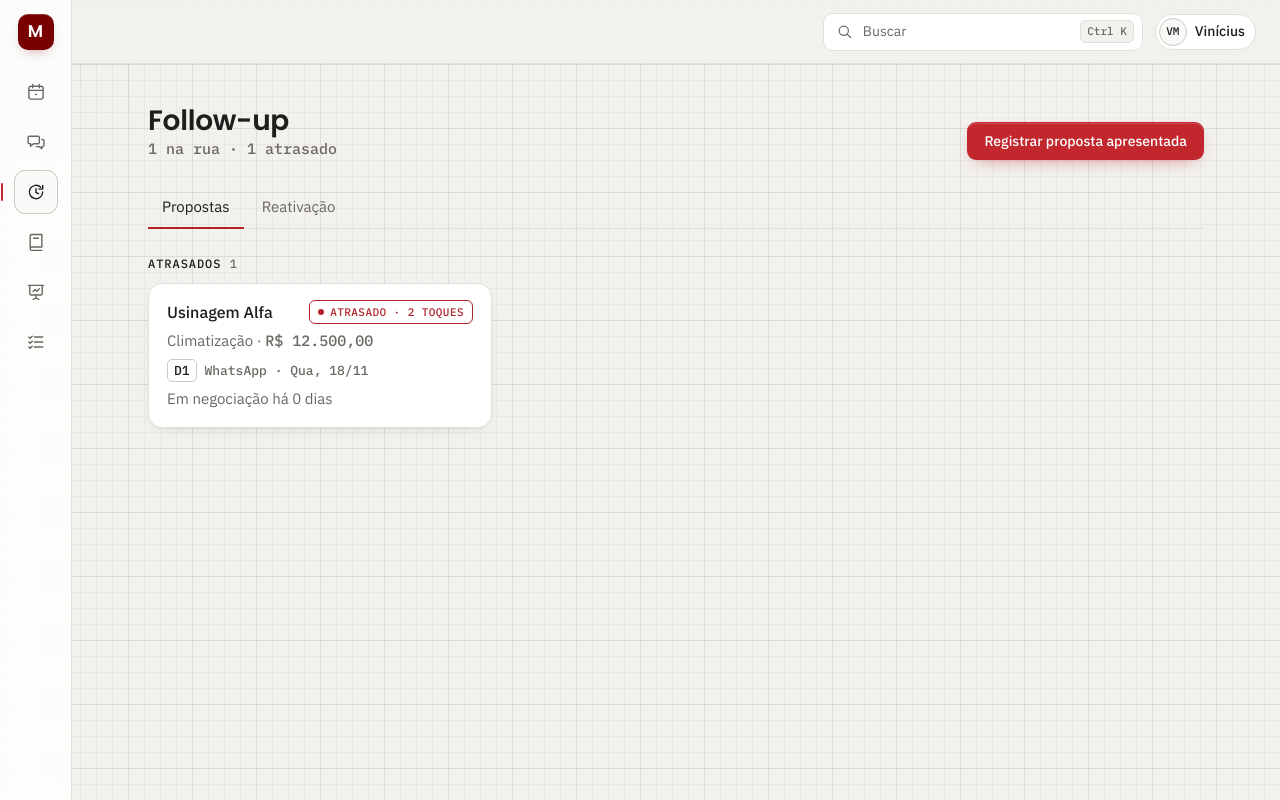
Test: registrar toque manda canal e resultado e tira o atraso
This screenshot has width=1280, height=800.
Click the button "Usinagem Alfa" at coordinates (220, 312), box [148,283,492,428]
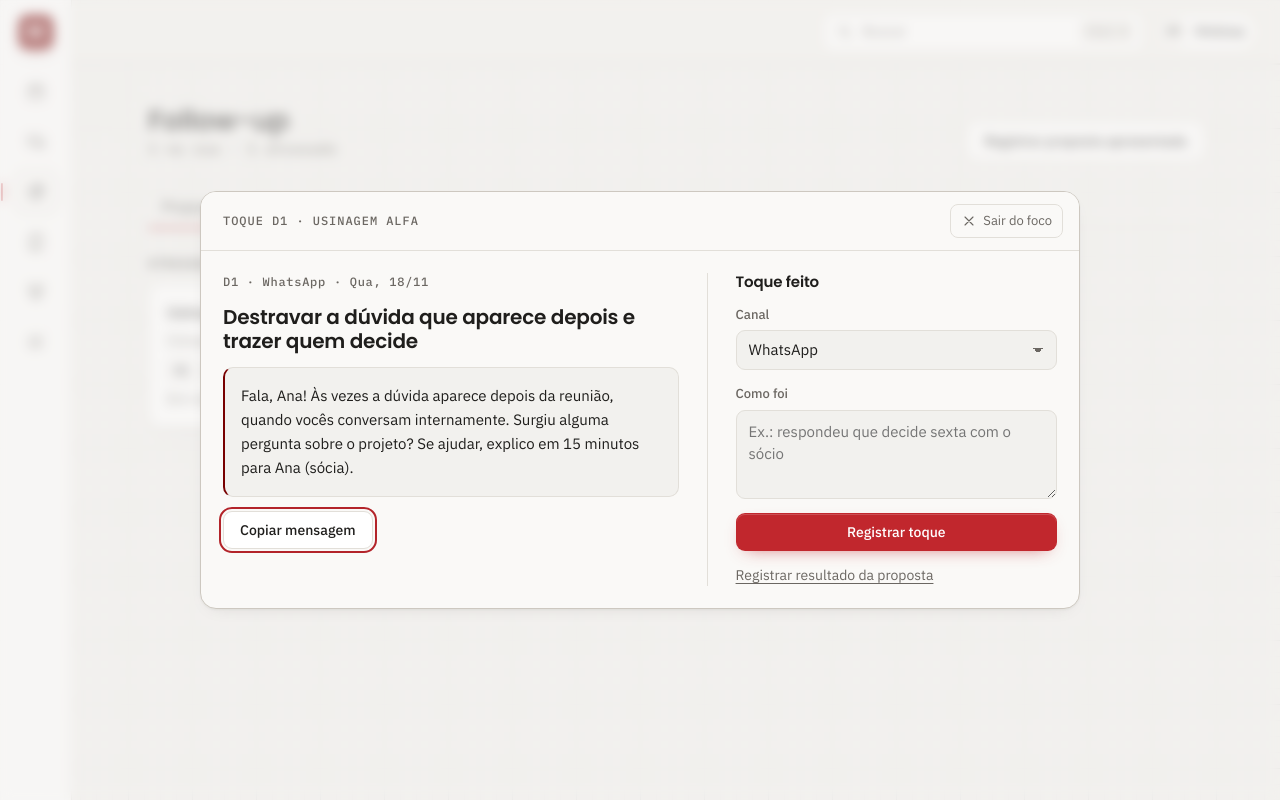
Select "WhatsApp" in the dropdown labelled "Canal" at coordinates (896, 350), box [736,330,1057,370]
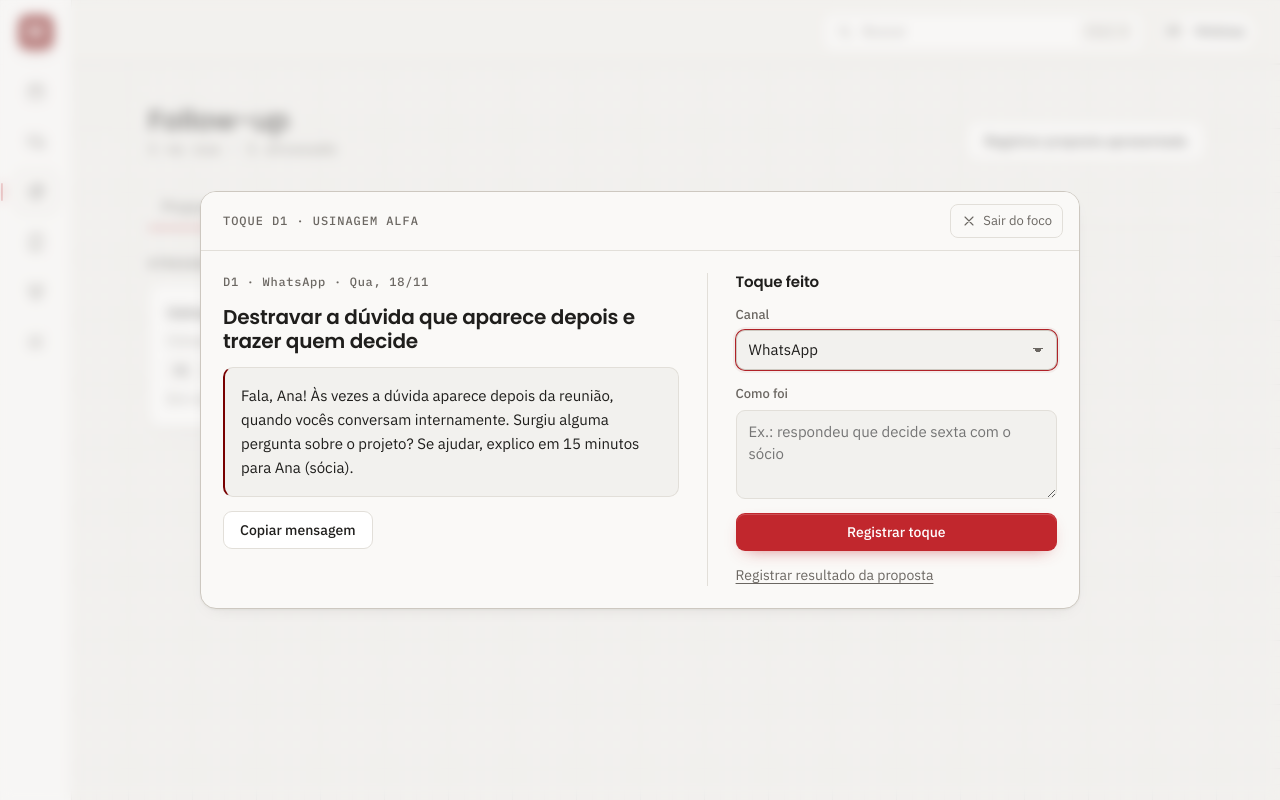
Type "Respondeu que decide sexta" into the text box labelled "Como foi" at coordinates (896, 454), box [736,410,1057,499]
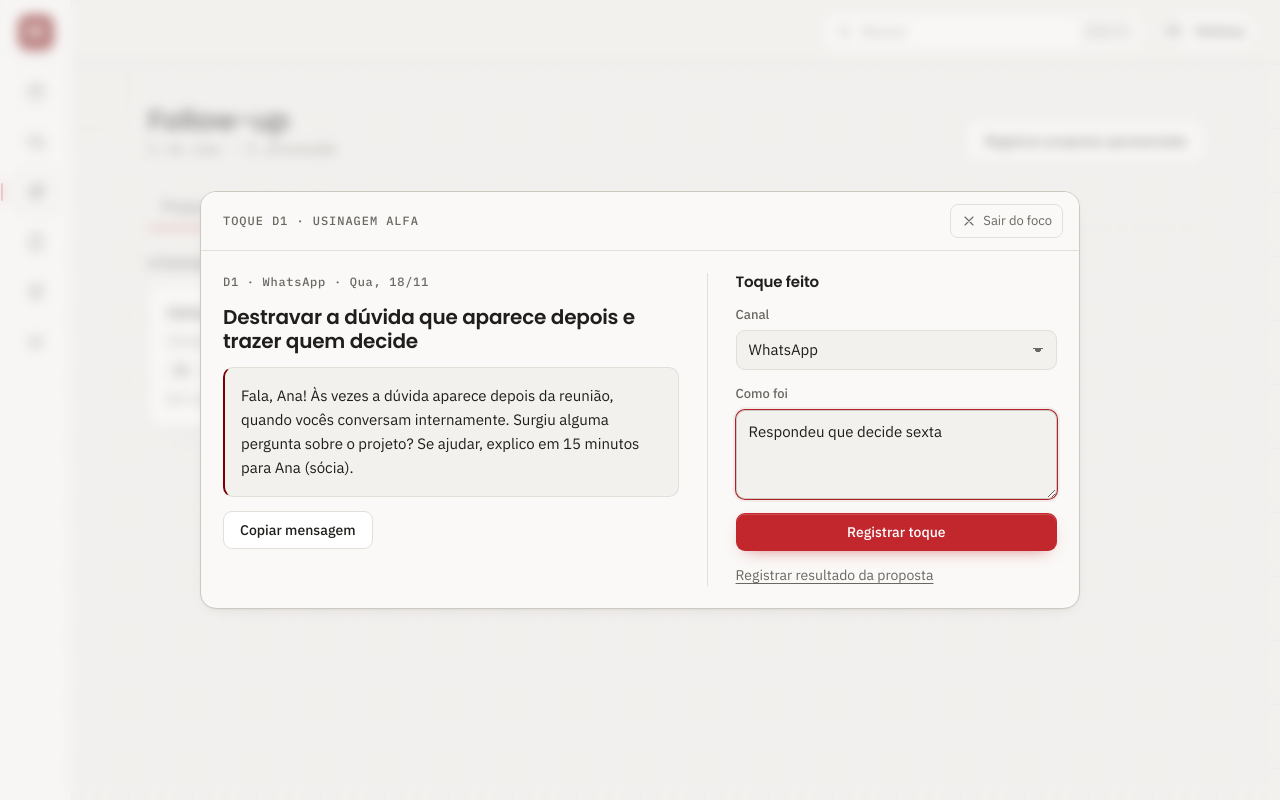
Click the button "Registrar toque" at coordinates (896, 532), box [736,513,1057,551]
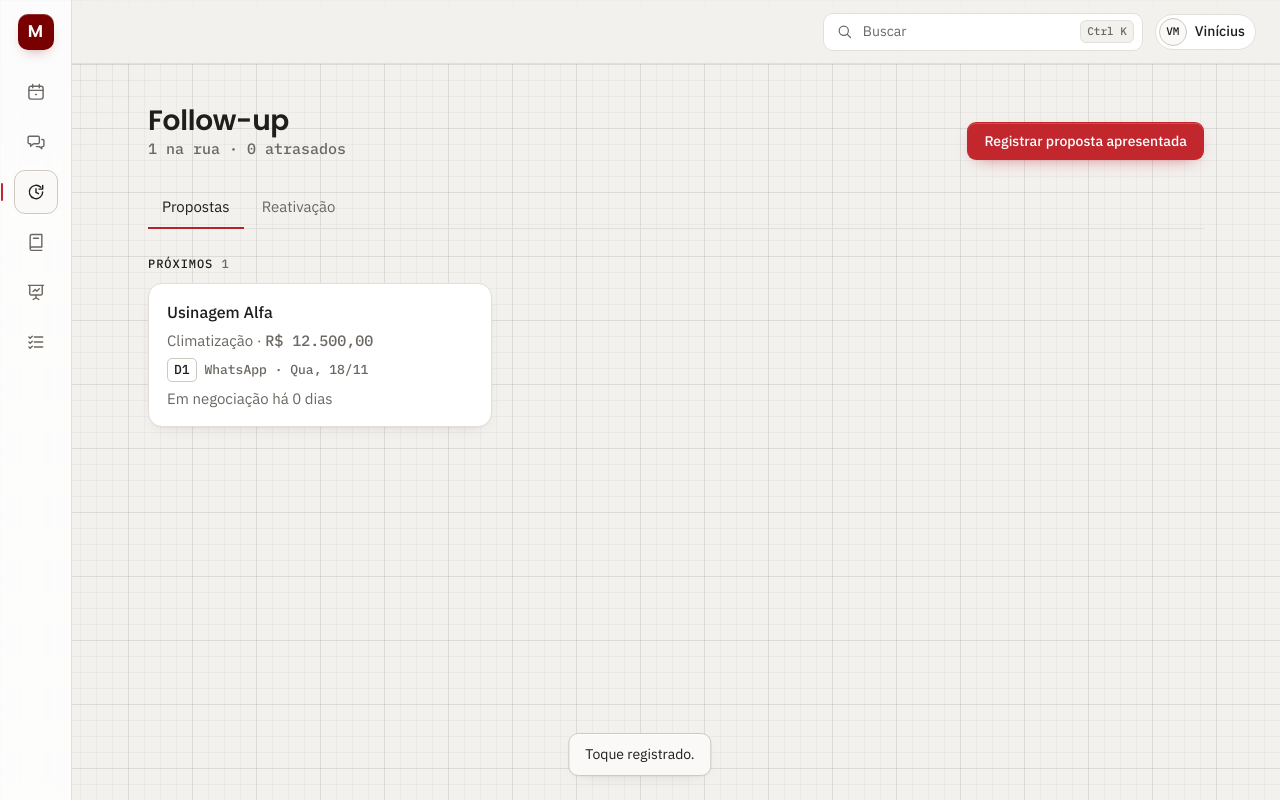
Expected: the message reads "Toque registrado.", [585,745,695,763]
Expected: the dialog is gone
